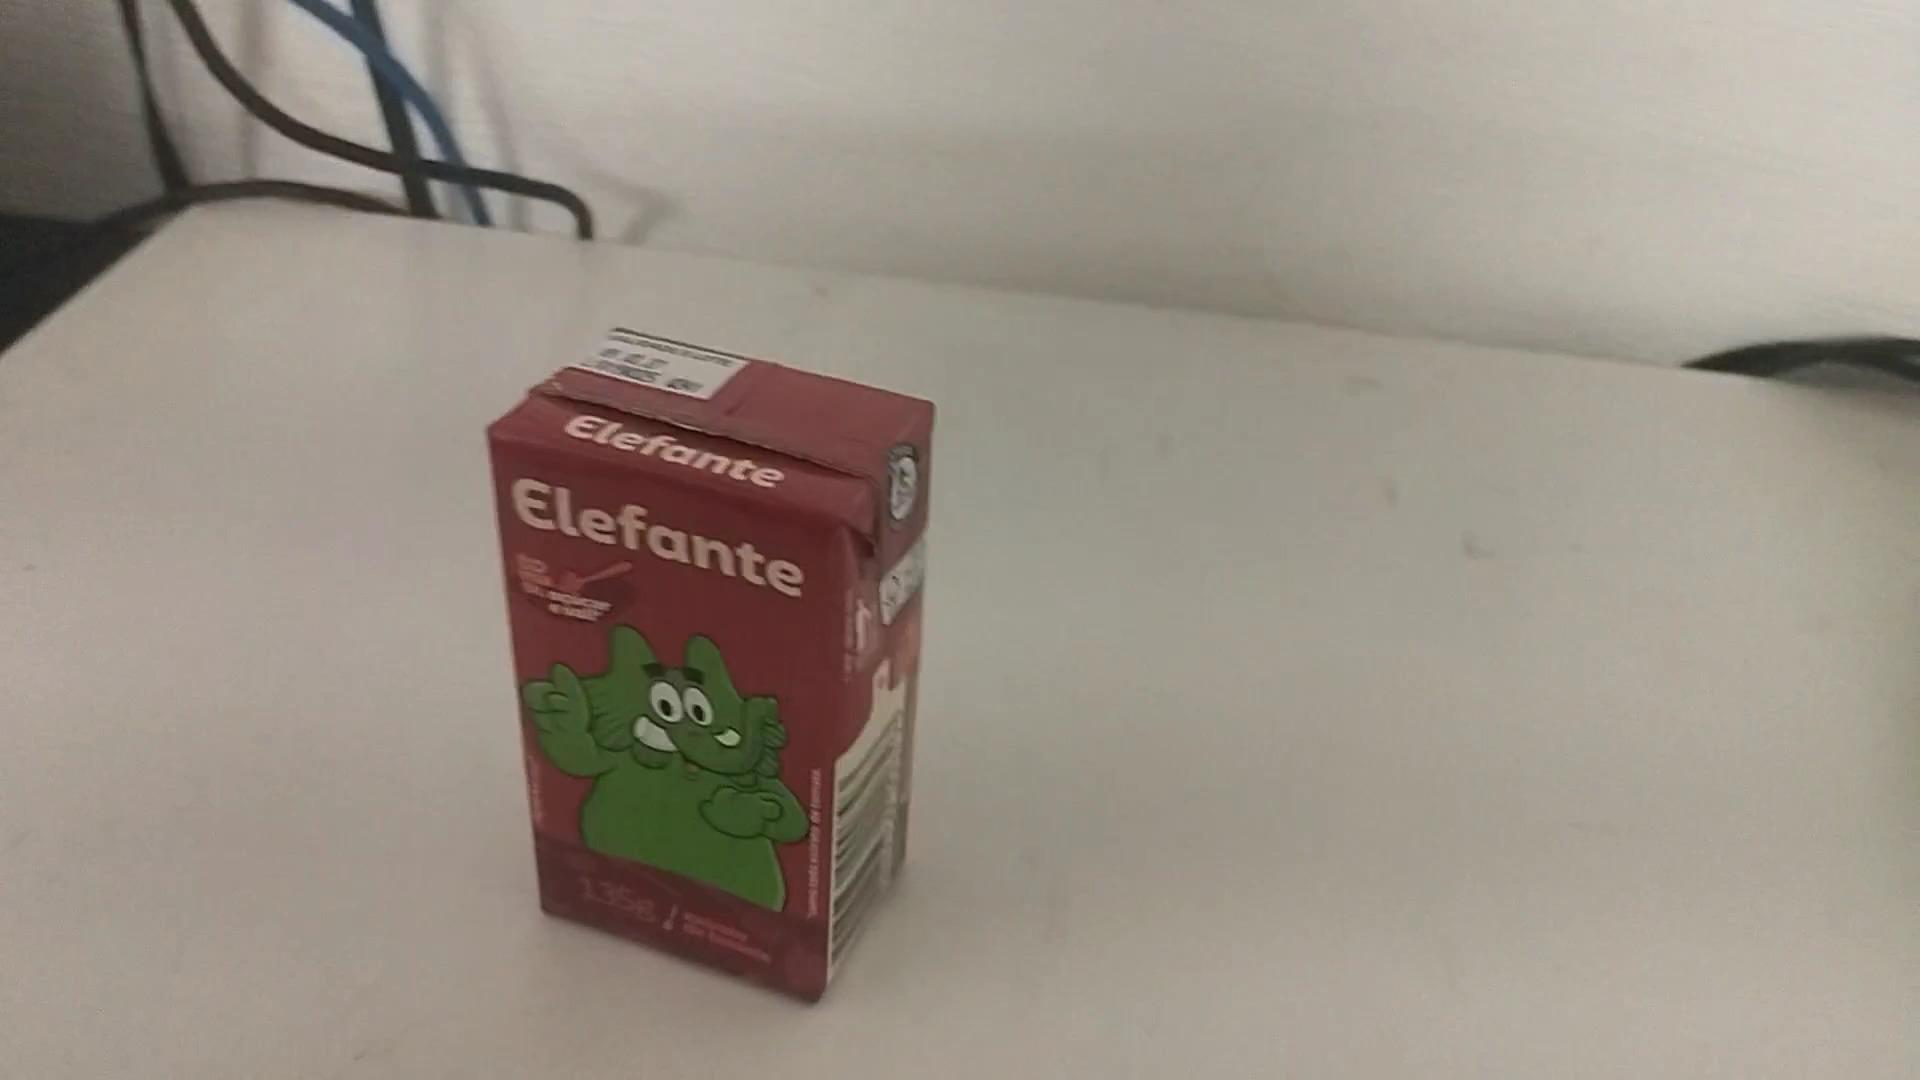tomate: (472, 298, 971, 1013)
